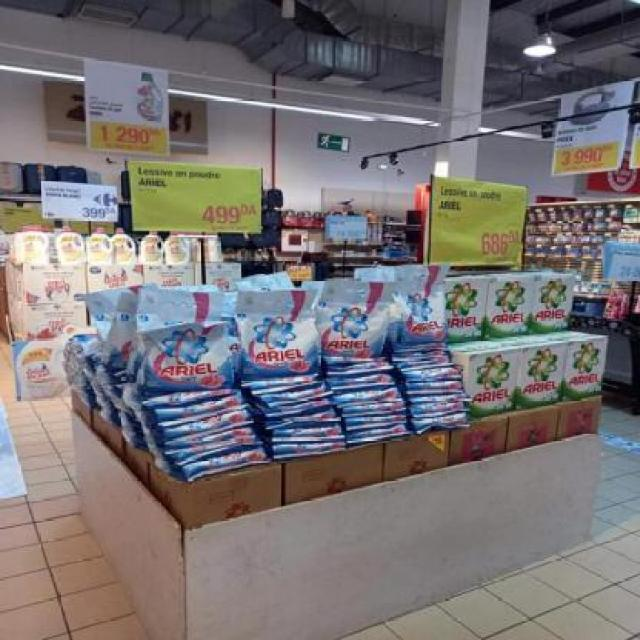Detergent: (132, 290, 234, 396), (233, 292, 319, 380), (304, 284, 392, 366), (390, 257, 448, 353), (459, 341, 519, 417), (513, 334, 565, 406), (486, 269, 537, 337), (441, 279, 492, 343), (563, 331, 606, 400), (531, 270, 575, 332)
